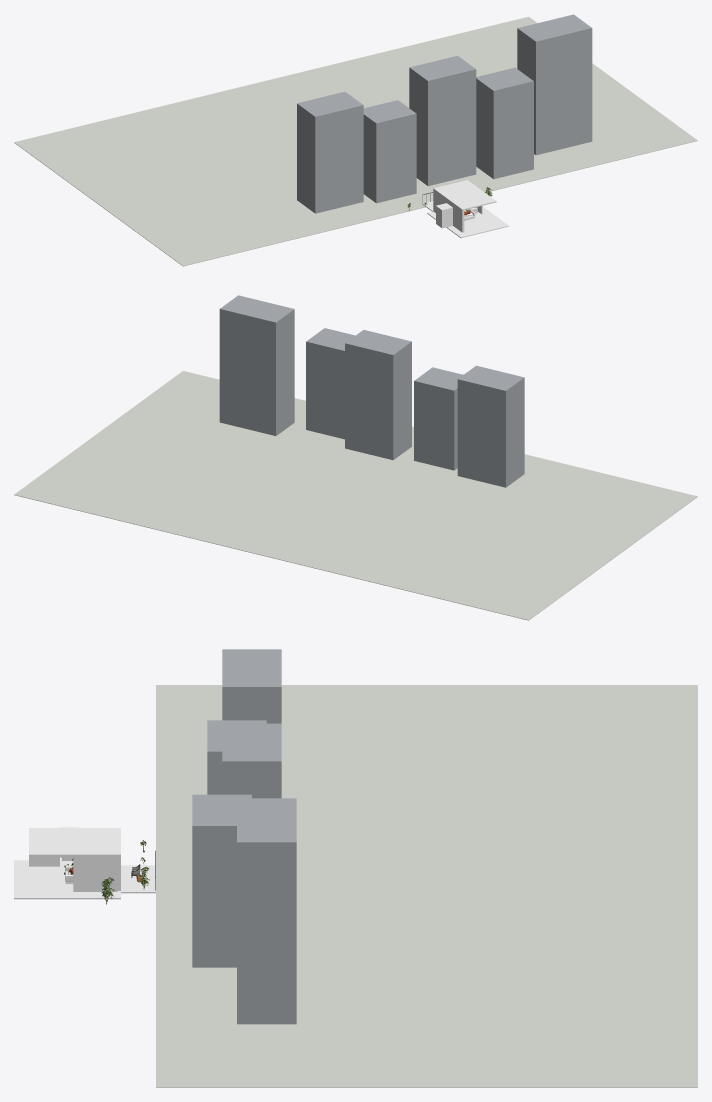
The model's file is living.glb.
3 views of the same model, one above another, from view 1: azimuth 30°, elevation 25°; view 2: azimuth 150°, elevation 25°; view 3: azimuth 270°, elevation 25° (orthographic). The views are drawn at different scales.
Visible parts, largest first — view 1: ground, bldg3, bldg1, bldg4, bldg2, bldg0, BAKE_A; view 2: ground, bldg3, bldg1, bldg4, bldg0, bldg2; view 3: ground, bldg3, BAKE_A, bldg2, bldg1, bldg4, bldg0.
Part boxes in pixels (x1,y1,x2,y2): ground: (14, 16, 697, 266); bldg3: (517, 14, 592, 155); bldg1: (409, 55, 476, 186); bldg4: (297, 91, 363, 213); bldg2: (476, 67, 533, 179); bldg0: (363, 100, 416, 203); BAKE_A: (422, 180, 508, 238); ground: (14, 371, 697, 620); bldg3: (219, 295, 294, 435); bldg1: (345, 330, 411, 460); bldg4: (457, 365, 524, 487); bldg0: (414, 367, 463, 470); bldg2: (306, 328, 355, 439); ground: (156, 685, 697, 1087); bldg3: (237, 798, 296, 1024); BAKE_A: (14, 827, 155, 899); bldg2: (192, 794, 251, 967); bldg1: (222, 723, 281, 798); bldg4: (222, 649, 281, 723); bldg0: (207, 720, 266, 794).
Size of the model in its own units: 64 by 13.55 by 46.
37 materials, 16 textured.
